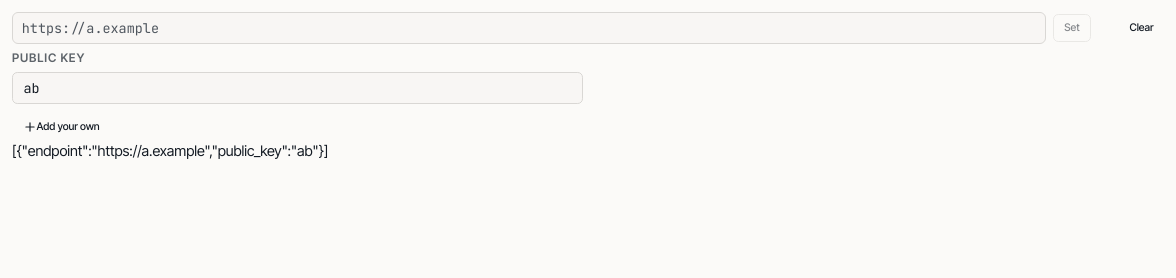
Test case: SchemaSetValueArrayControl › adds another value with its own Set, and Clear removes one
This screenshot has width=1176, height=278.
Click the button "Add your own". click: (61,127)
box: top-left (12, 113), bottom-right (110, 141)
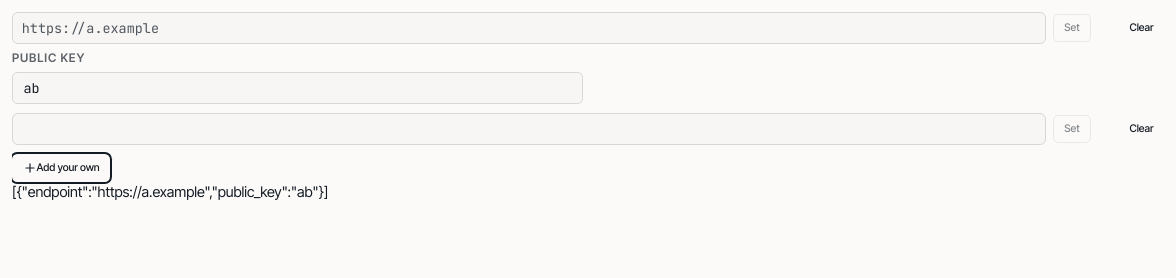
Type "https://c.example" into the field named "Witnesses 2". click: (529,129)
box: top-left (12, 113), bottom-right (1046, 145)
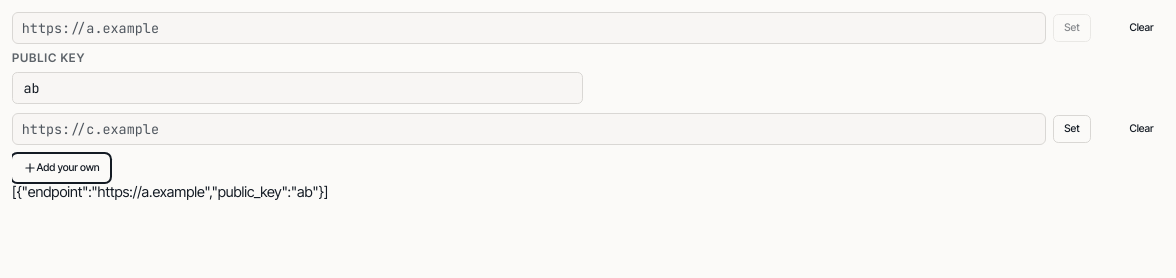
Click the 2nd button "Set". click: (1072,129)
box: top-left (1053, 115), bottom-right (1091, 143)
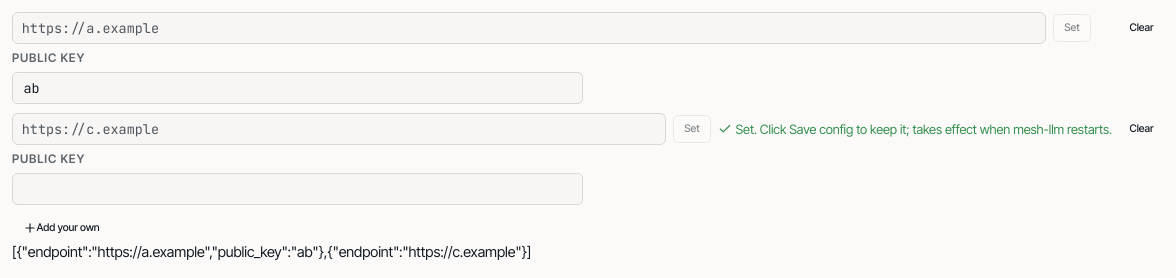
expect the text with test id "value" shows "[{\"endpoint\":\"https://a.example\",\"public_key\":\"ab\"},{\"endpoint\":\"https://c.example\"}]": met, box top-left (12, 243), bottom-right (531, 261)
Click the 1st button "Clear". click: (1142,28)
box: top-left (1119, 14), bottom-right (1164, 42)
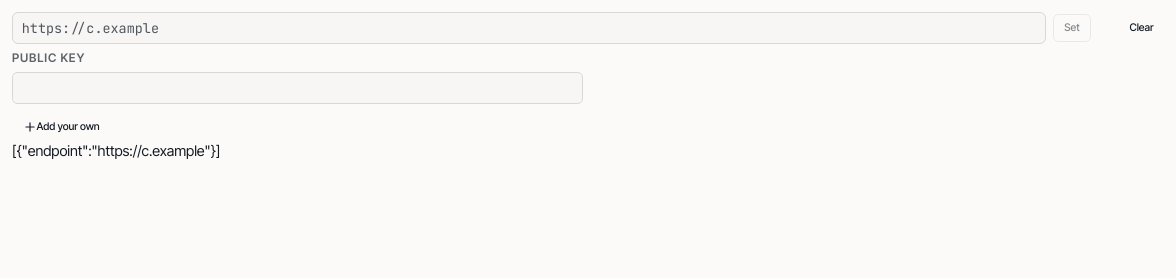
expect the text with test id "value" reads "[{\"endpoint\":\"https://c.example\"}]": met, box top-left (12, 142), bottom-right (220, 160)
